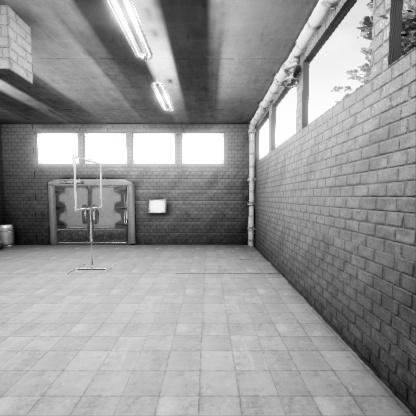gate: (73, 207, 102, 263)
